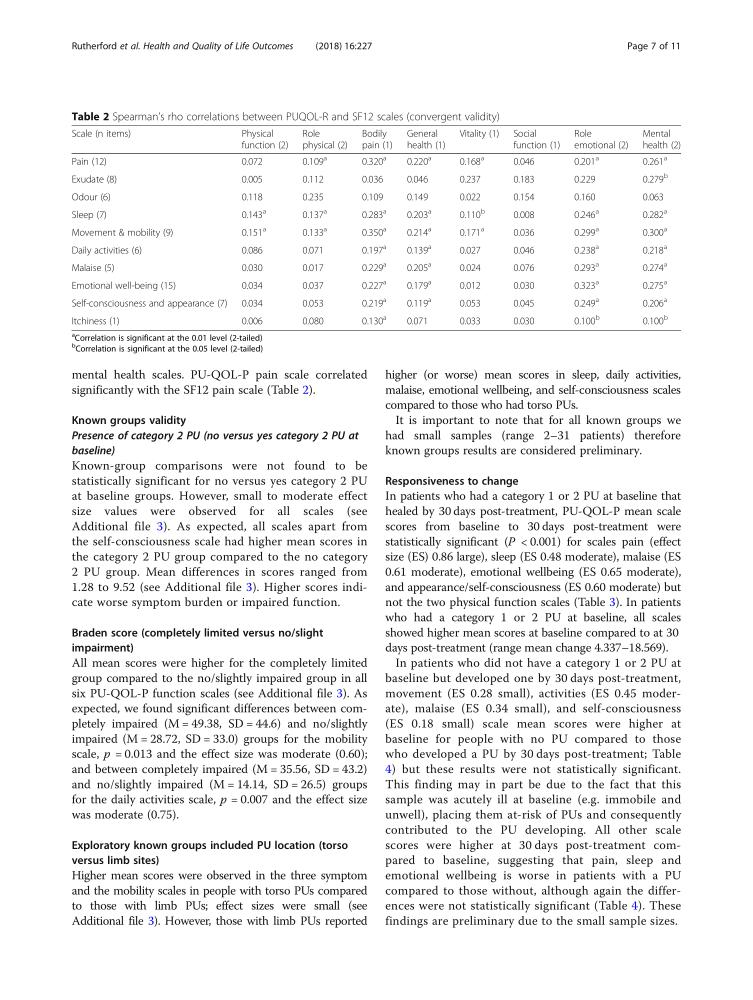table: (71, 128, 680, 326)
